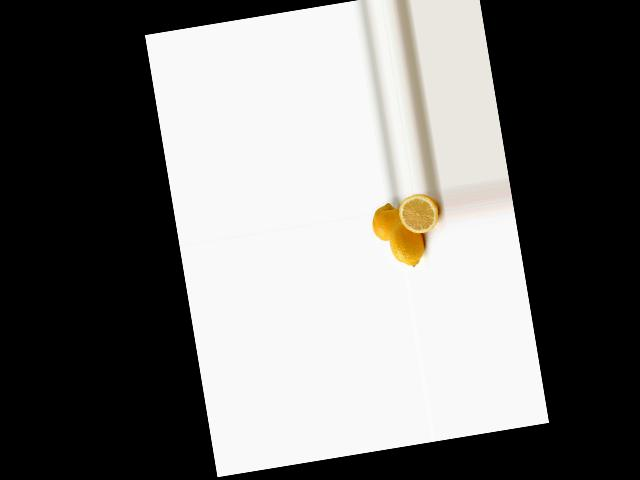lemon: (367, 199, 405, 246)
